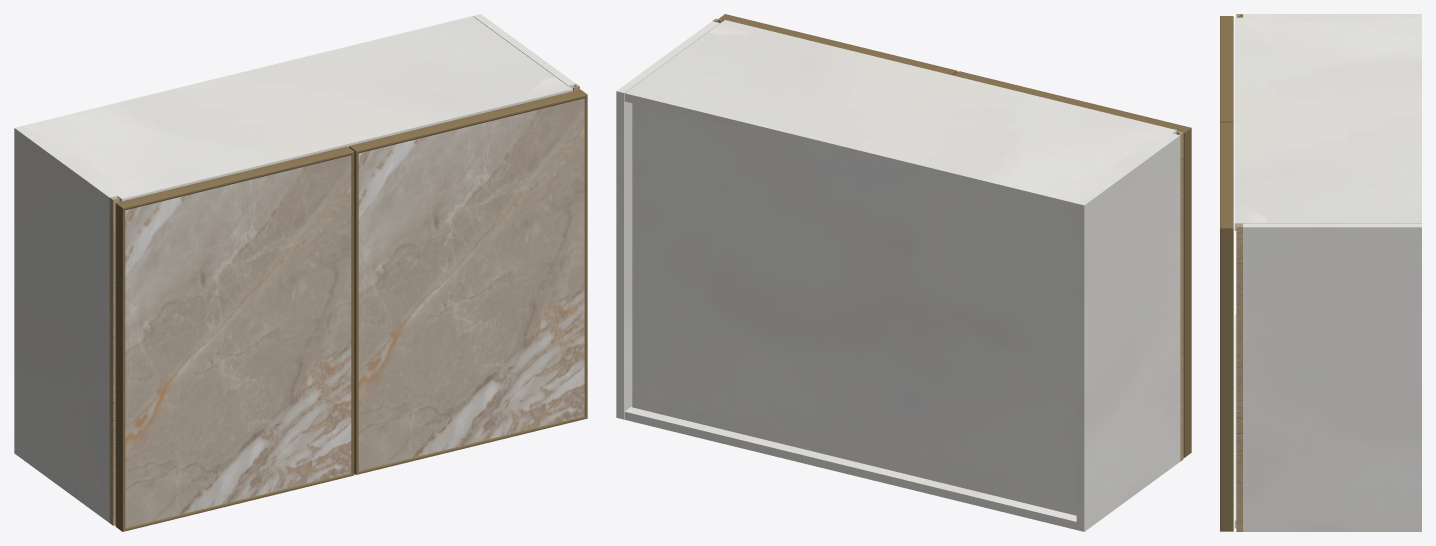
The model's file is LB-SH-NHX-ST-1SX-LHS-XXX-900-600-336-15.glb.
3 views of the same model, side by side, from view 1: azimuth 30°, elevation 25°; view 2: azimuth 150°, elevation 25°; view 3: azimuth 270°, elevation 25° (orthographic). The views are drawn at different scales.
Parts seen in each view (by area): view 1: Object_node_6, Object_node_4, TP, TP_node_0, Extrusion_node_1, Extrusion_node_2, Extrusion, Object_node_8, Extrusion_node_5, Extrusion_node, Extrusion_node_3, Extrusion_node_4 (+2 smaller); view 2: TP_node_2, TP, TP_node_0, TP_node, TP_node_1, Extrusion_node_1, Extrusion_node_2, Extrusion, Object_node_8; view 3: TP_node_1, TP, Extrusion_node_3, Object_node_14, Extrusion_node_2, Extrusion, TP_node_0, TP_node.
Boxes of the visible parts, <box> form: Object_node_6: <box>358,98,584,470</box>; Object_node_4: <box>125,155,351,527</box>; TP: <box>22,16,572,201</box>; TP_node_0: <box>14,126,117,522</box>; Extrusion_node_1: <box>115,203,125,531</box>; Extrusion_node_2: <box>349,89,587,153</box>; Extrusion: <box>116,146,354,210</box>; Object_node_8: <box>109,197,119,525</box>; Extrusion_node_5: <box>349,146,358,474</box>; Extrusion_node: <box>351,152,354,474</box>; Extrusion_node_3: <box>584,95,587,417</box>; Extrusion_node_4: <box>356,416,587,474</box>; TP_node_2: <box>632,103,1076,515</box>; TP: <box>624,20,1176,211</box>; TP_node_0: <box>1076,133,1180,531</box>; TP_node: <box>624,406,1076,529</box>; TP_node_1: <box>616,21,719,419</box>; Extrusion_node_1: <box>1183,128,1191,457</box>; Extrusion_node_2: <box>718,14,956,74</box>; Extrusion: <box>953,71,1191,133</box>; Object_node_8: <box>1176,131,1183,461</box>; TP_node_1: <box>1243,223,1421,531</box>; TP: <box>1234,17,1421,230</box>; Extrusion_node_3: <box>1220,228,1233,531</box>; Object_node_14: <box>1236,224,1242,531</box>; Extrusion_node_2: <box>1220,122,1233,228</box>; Extrusion: <box>1220,16,1233,121</box>; TP_node_0: <box>1243,14,1421,17</box>; TP_node: <box>1234,314,1236,528</box>.
Size of what is drawn, in the model's own units: 0.9 by 0.6 by 0.3602.
Materials: 7 (3 with a texture image).
